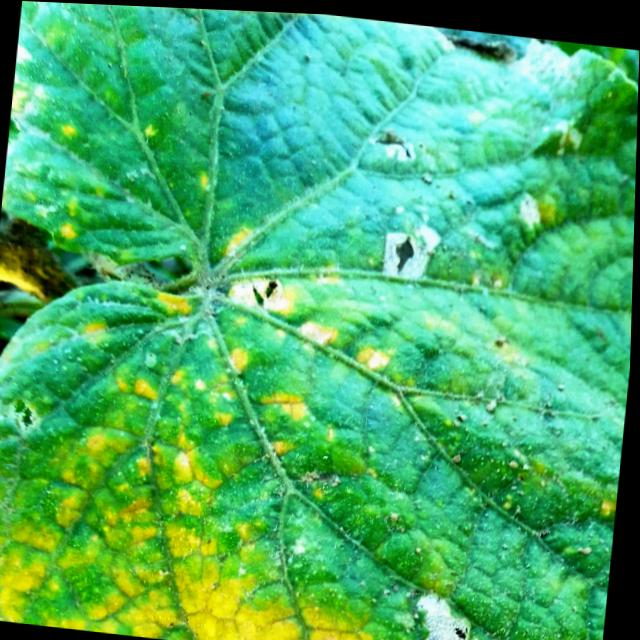Anthracnose: (377, 225, 433, 284), (238, 267, 293, 320), (11, 393, 41, 432)
